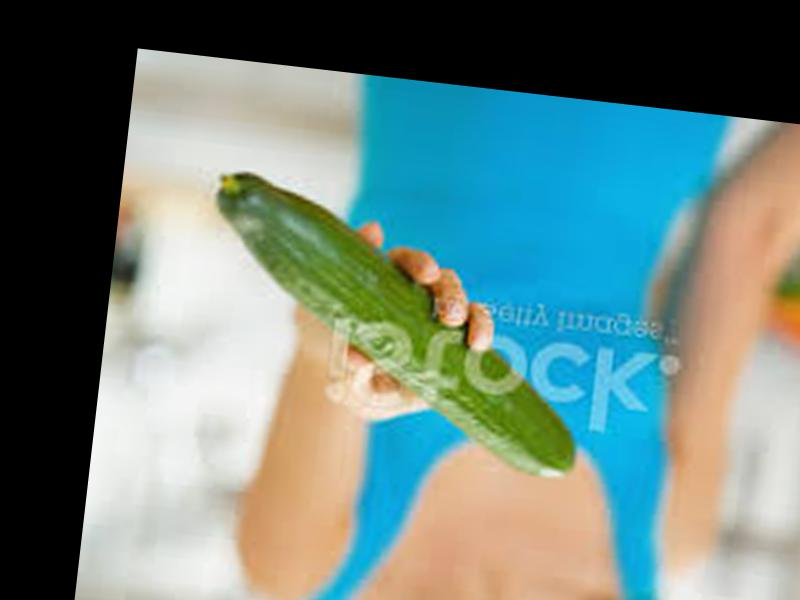Cucumber: (190, 168, 605, 480)
